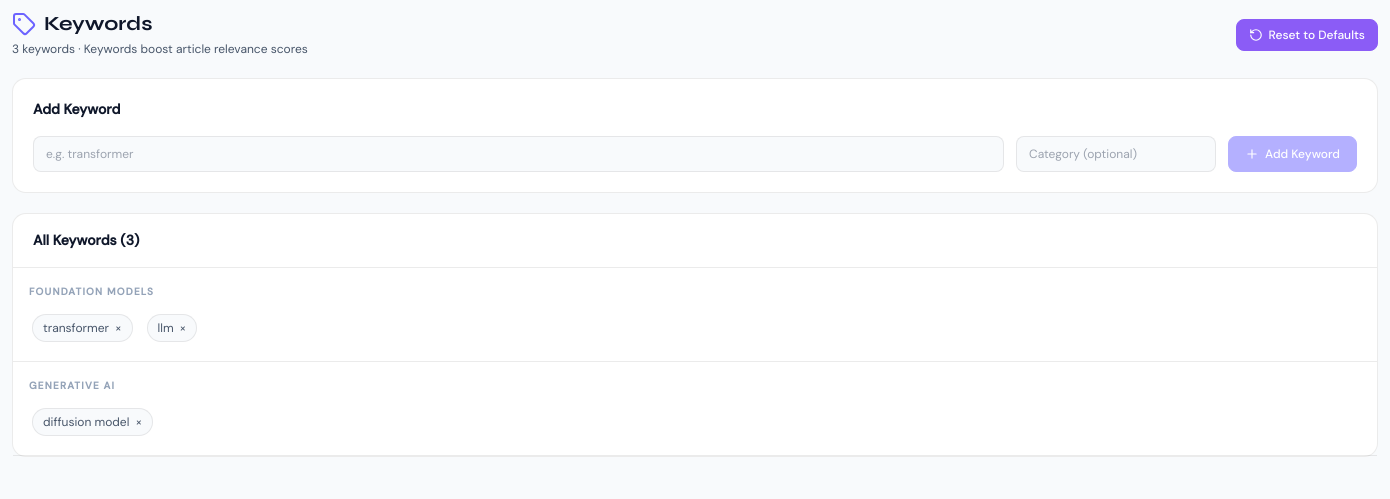
Test case: KeywordsManager › shows "Keyword already exists" on 409 response
Expected: the text "transformer" is shown, [43,320,109,336]
Type "transformer" into the field with placeholder "e.g. transformer" at (519, 154), box [33,136,1004,172]
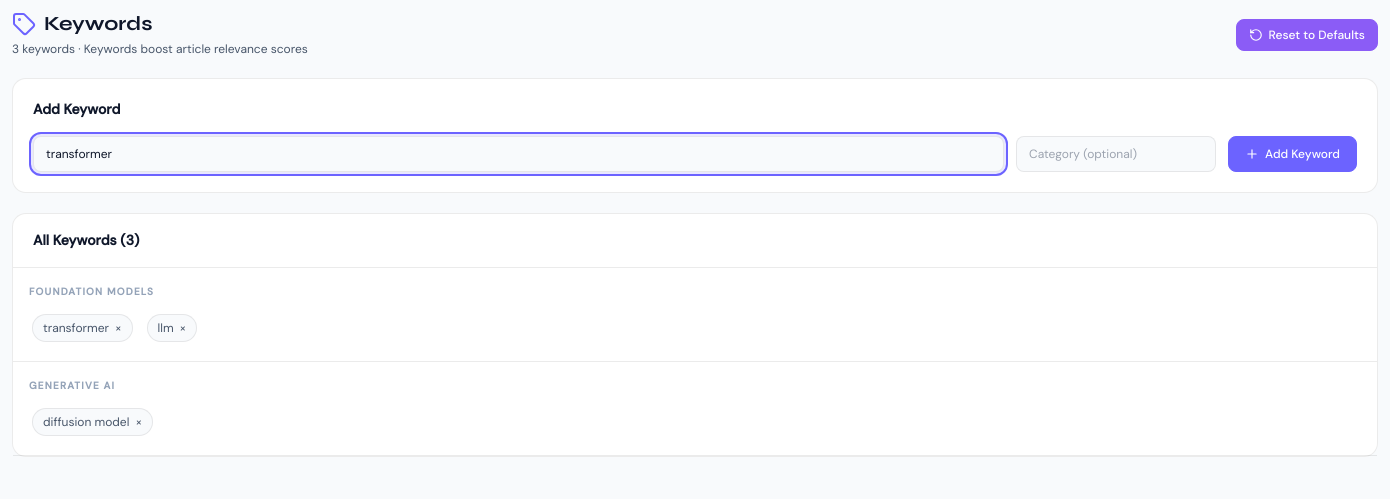
Click the button "Add Keyword" at (1293, 154), box [1228,136,1357,172]
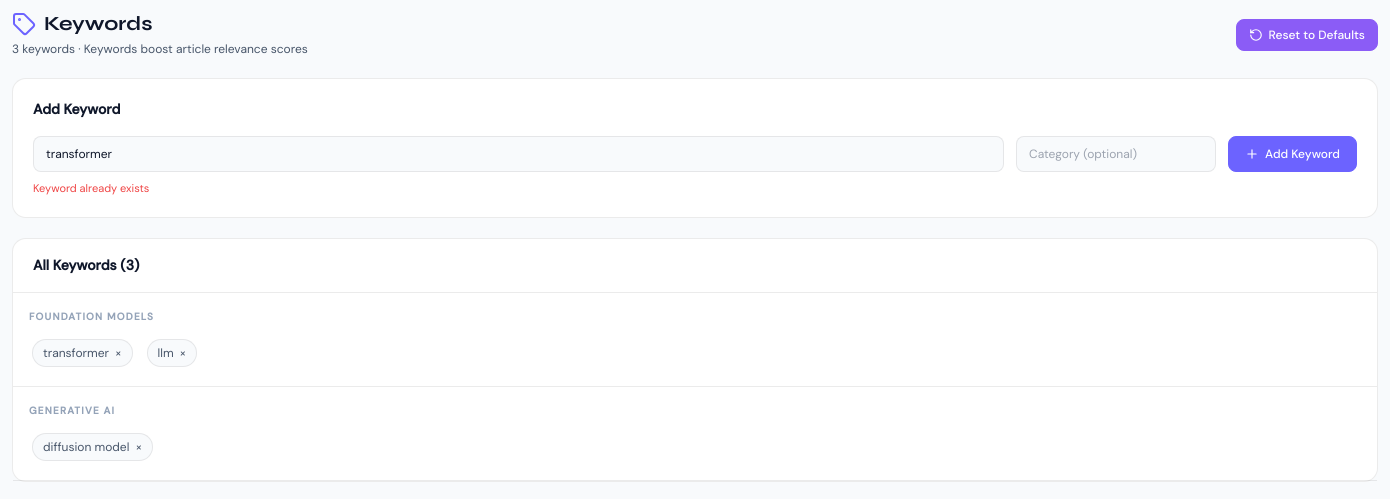
Result: the text "Keyword already exists" is shown at [33,181,149,195]
